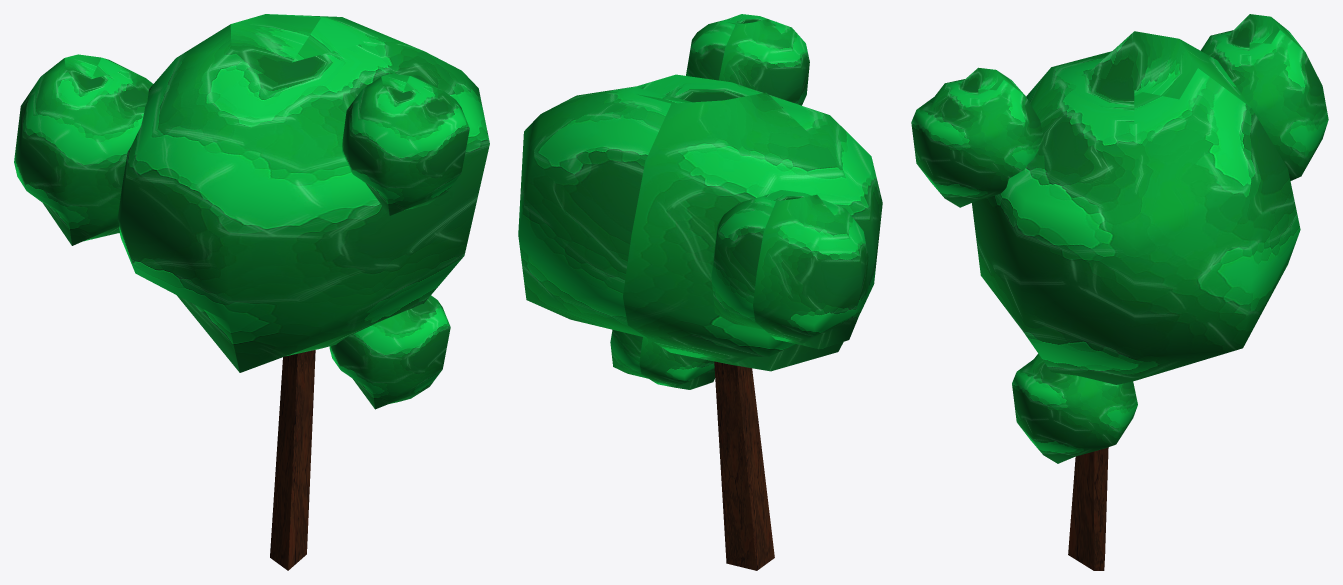
The model's file is bush1.fbx.
3 views of the same model, side by side, from view 1: azimuth 30°, elevation 25°; view 2: azimuth 150°, elevation 25°; view 3: azimuth 270°, elevation 25° (orthographic). The views are drawn at different scales.
Parts seen in each view (by area): view 1: polymsh; view 2: polymsh; view 3: polymsh.
Boxes of the visible parts, x1,y1,x2,y2 form: polymsh: (14, 14, 489, 570); polymsh: (518, 14, 882, 570); polymsh: (911, 14, 1328, 570).
Size of the model in its own units: 43.08 by 52.06 by 38.22.
